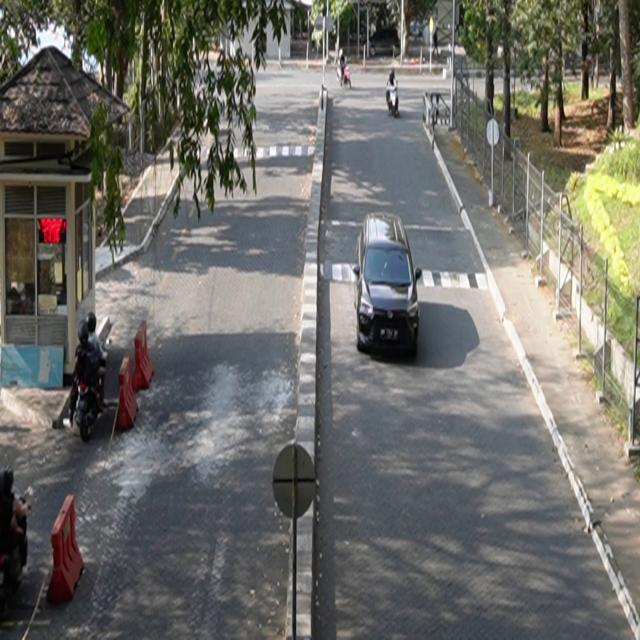car: (353, 212, 423, 357)
